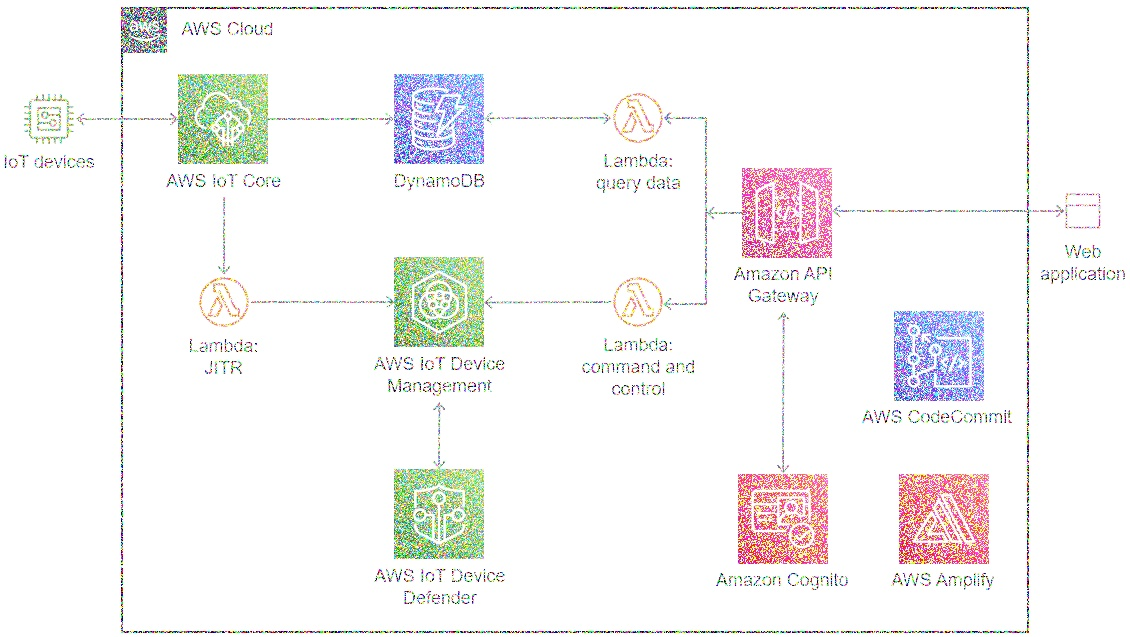API-Gateway: (739, 166, 834, 261)
Amplify: (899, 469, 993, 567)
CodeCommit: (892, 306, 986, 405)
Cognito: (739, 469, 831, 567)
Dynamo DB: (392, 71, 485, 165)
EC2: (19, 84, 78, 151)
IOT Core: (387, 247, 491, 354), (389, 459, 488, 563), (176, 73, 270, 166)
Lambda: (189, 269, 259, 335), (606, 266, 672, 331), (606, 86, 670, 150)
aws: (122, 4, 168, 53)
